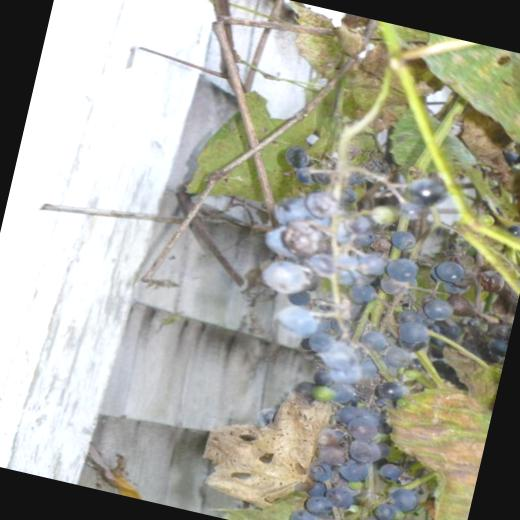Orange: (201, 130, 520, 520)
